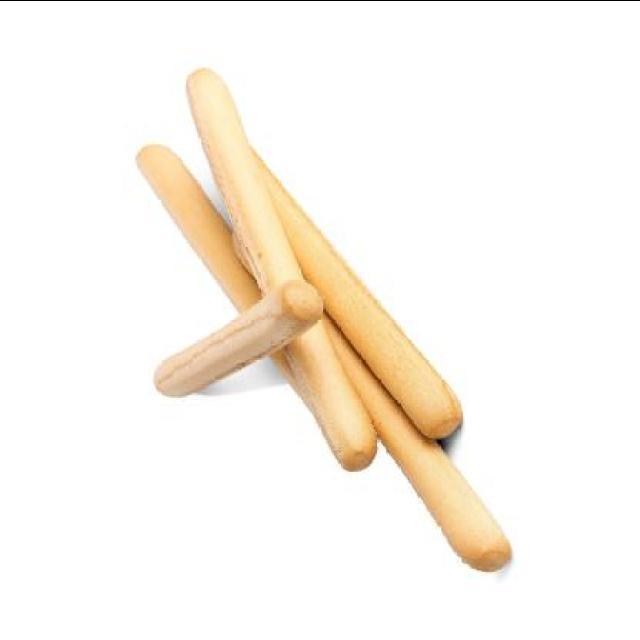Grissini: (132, 64, 520, 568)
